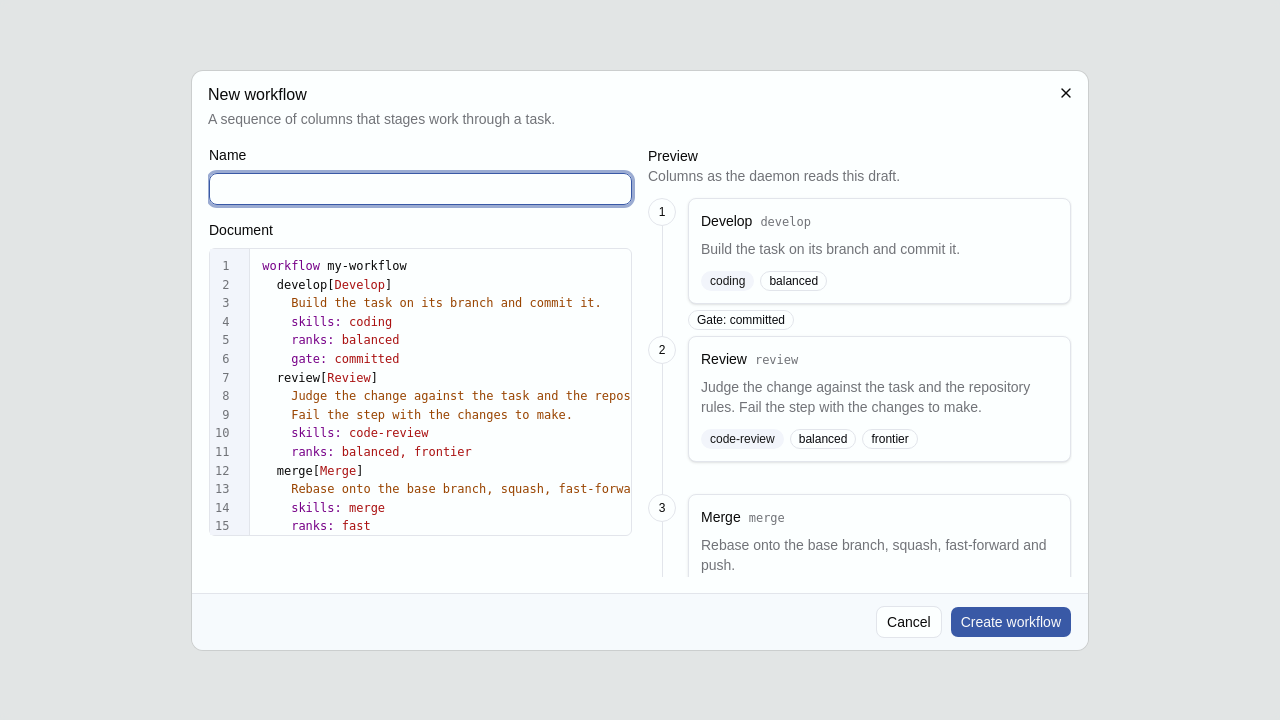
Test: creating › refuses a workflow with no name, before the daemon is asked
The image size is (1280, 720).
Click the button "Create workflow" at x=1011, y=622, box [950,606,1072,638]
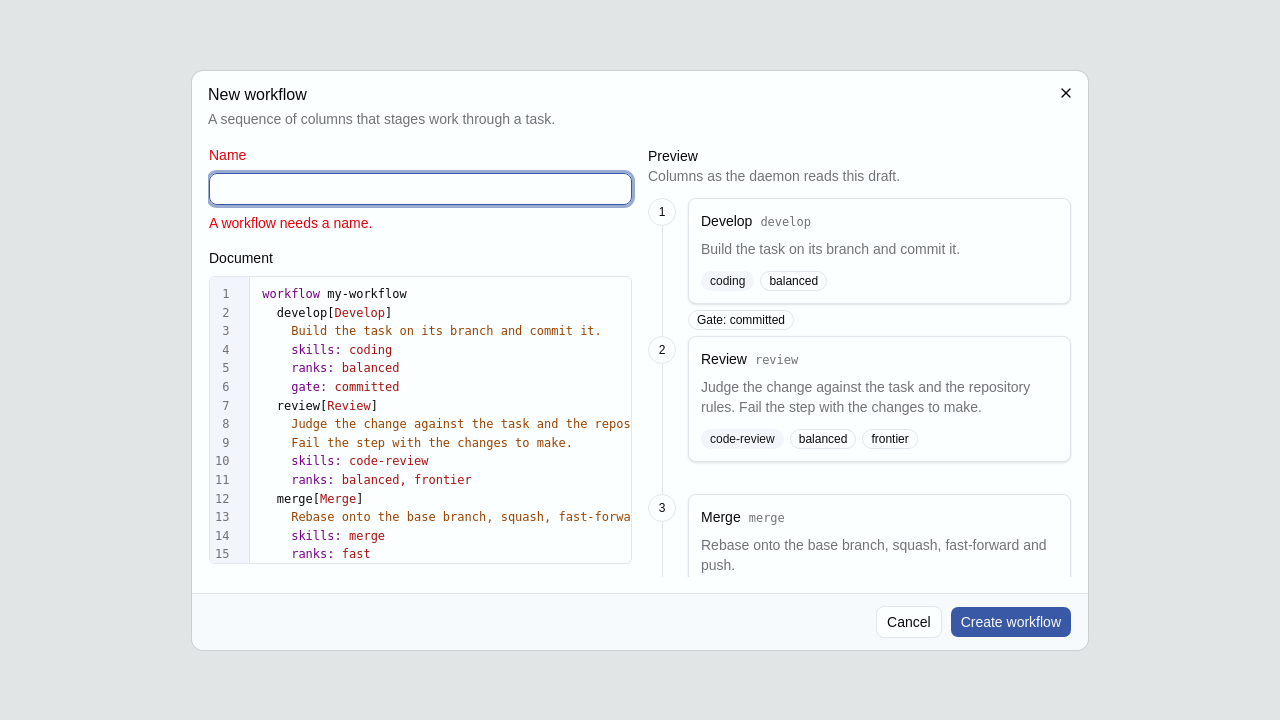
Result: the text "A workflow needs a name." is shown at [209,215,372,231]
